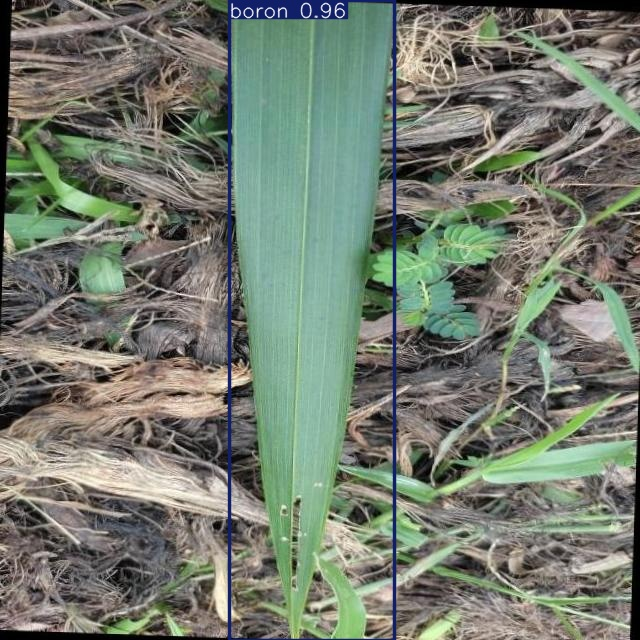nitrogen: (229, 1, 395, 640)
